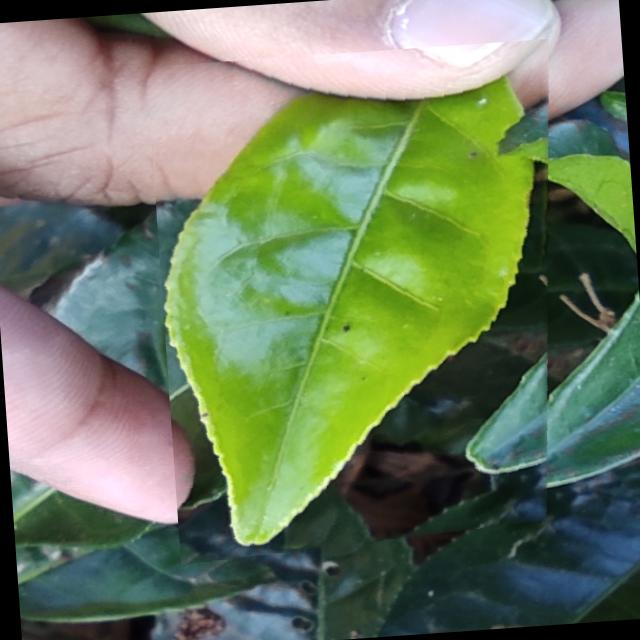Category C 4-7 days: (146, 38, 585, 566)
